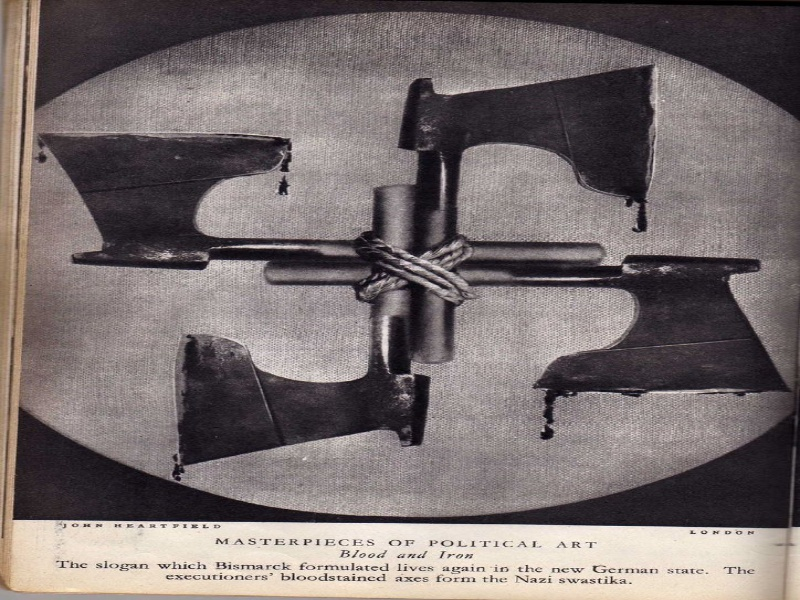axe: (395, 61, 664, 246), (36, 122, 331, 284), (164, 318, 443, 479), (531, 246, 794, 413)
